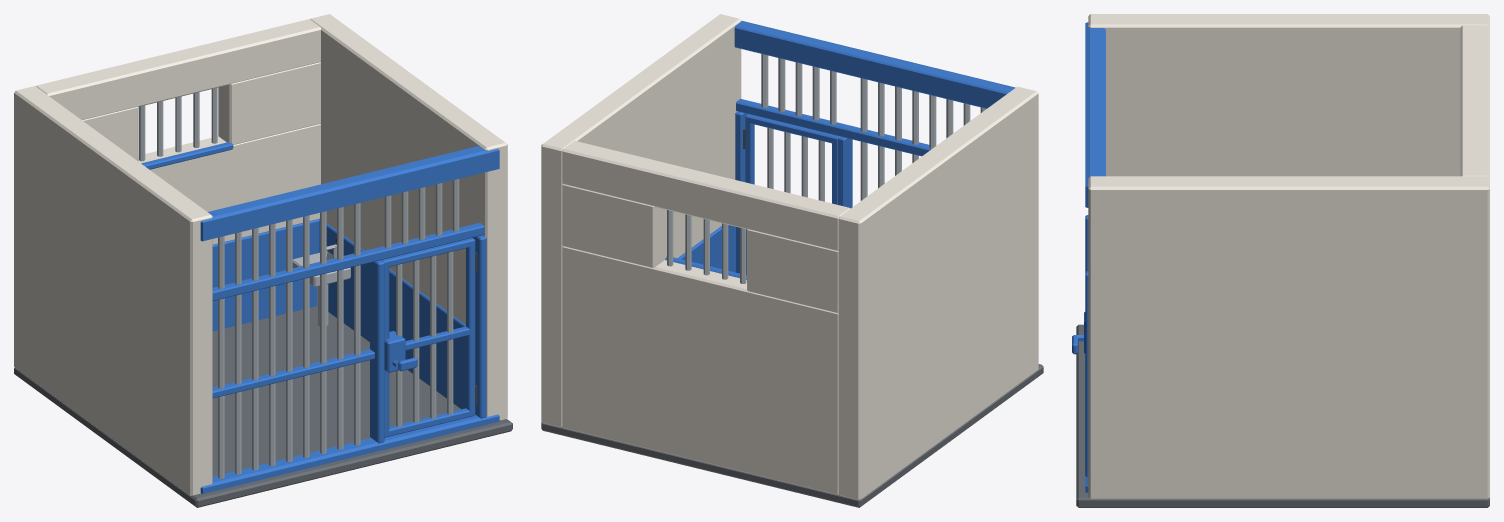
The model's file is low-poly-holding-cell.glb.
3 views of the same model, side by side, from view 1: azimuth 30°, elevation 25°; view 2: azimuth 150°, elevation 25°; view 3: azimuth 270°, elevation 25° (orthographic). The views are drawn at different scales.
Parts seen in each view (by area): view 1: Cell_Walls, Cell_BarFrame, Cell_Floor, Cell_Bars, Cell_Dado, Door, Door_Bars, Sink; view 2: Cell_Walls, Cell_BarFrame, Cell_Bars, Cell_Floor, Door, Door_Bars, Cell_Dado; view 3: Cell_Walls, Cell_Floor, Cell_BarFrame.
Boxes of the visible parts, x1=… form: Cell_Walls: x1=14, y1=14, x2=507, y2=495; Cell_BarFrame: x1=141, y1=142, x2=499, y2=493; Cell_Floor: x1=14, y1=306, x2=512, y2=507; Cell_Bars: x1=139, y1=87, x2=459, y2=478; Cell_Dado: x1=212, y1=218, x2=465, y2=409; Door: x1=381, y1=238, x2=475, y2=437; Door_Bars: x1=396, y1=251, x2=453, y2=427; Sink: x1=292, y1=244, x2=350, y2=326; Cell_Walls: x1=541, y1=14, x2=1038, y2=499; Cell_BarFrame: x1=665, y1=20, x2=1015, y2=279; Cell_Bars: x1=667, y1=54, x2=986, y2=283; Cell_Floor: x1=541, y1=364, x2=1043, y2=507; Door: x1=745, y1=114, x2=839, y2=275; Door_Bars: x1=767, y1=127, x2=824, y2=201; Cell_Dado: x1=678, y1=225, x2=735, y2=272; Cell_Walls: x1=1088, y1=14, x2=1489, y2=499; Cell_Floor: x1=1076, y1=324, x2=1489, y2=507; Cell_BarFrame: x1=1085, y1=22, x2=1105, y2=492.
Bounding box in the file's own units: 14 × 12 × 14.15.
